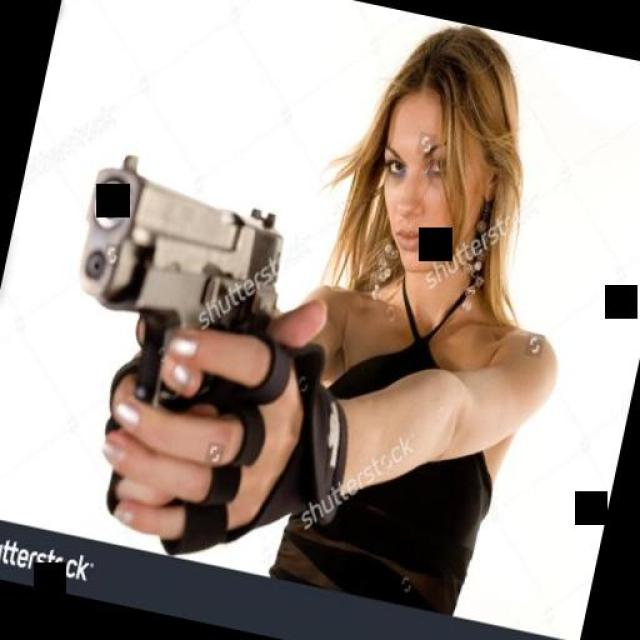gun: (21, 148, 302, 540)
